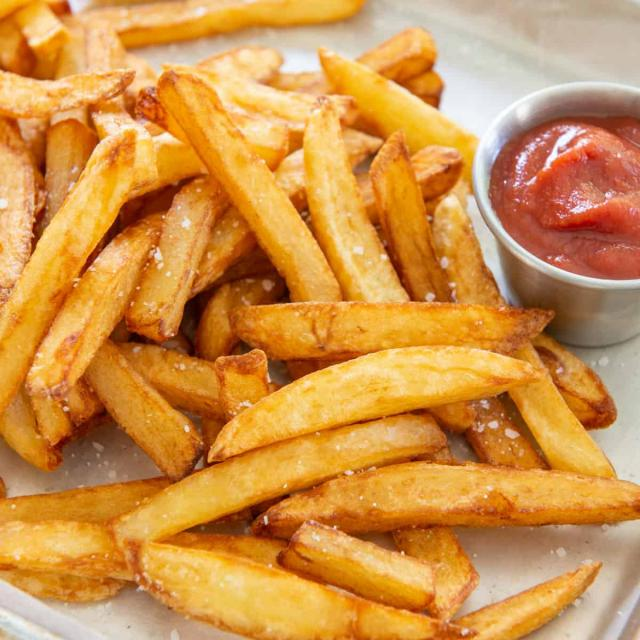Fries: (1, 0, 640, 639)
